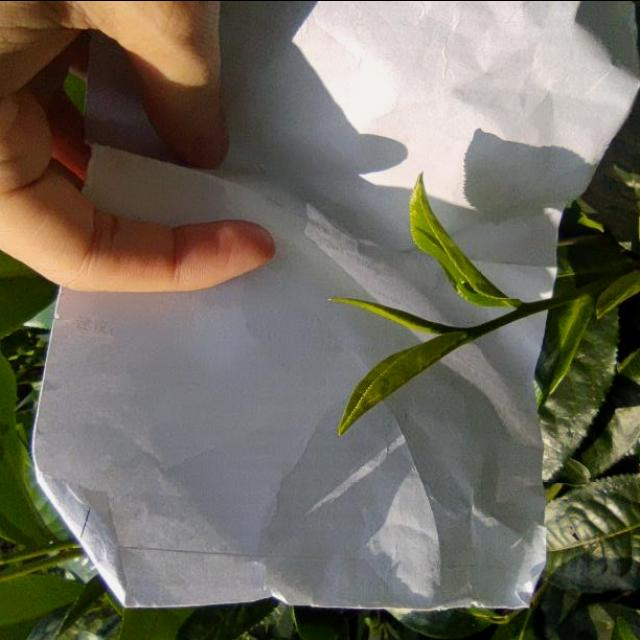Stem: (517, 303, 533, 314)
